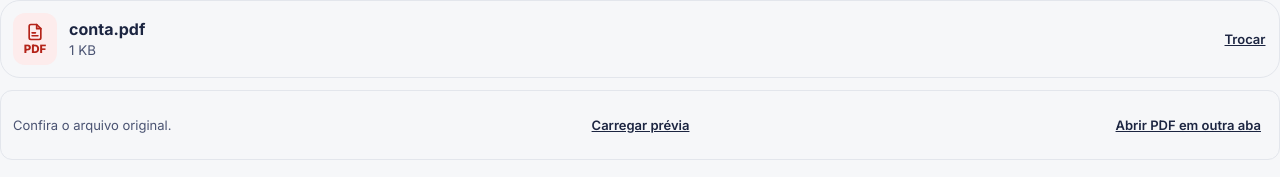
it: prévia recusa URL insegura javascript:alert(1)
This screenshot has width=1280, height=177.
Click the button "Carregar prévia" at coordinates (641, 125), box x1=586 y1=103 x2=696 y2=147
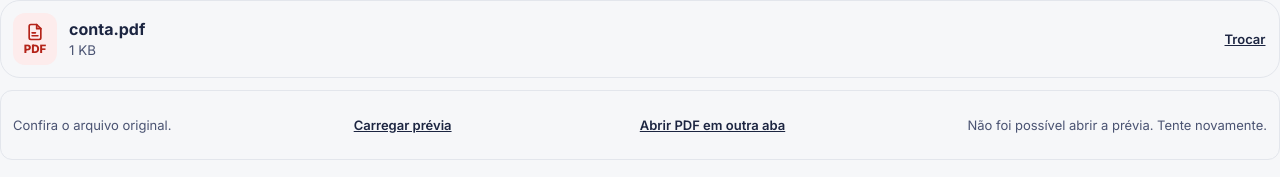
Expected: the message shows "Não foi possível abrir a prévia", x1=967 y1=117 x2=1267 y2=133
